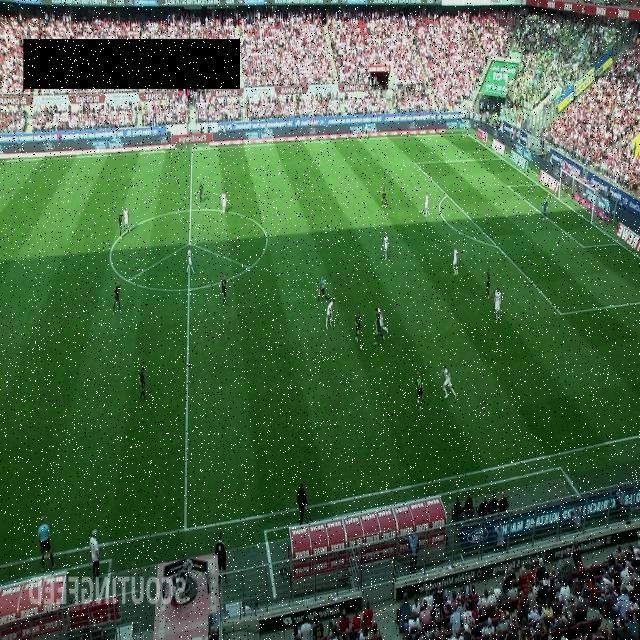Ball: (360, 344, 362, 352)
Corner: (464, 114, 472, 138)
GoalKeeper: (542, 196, 548, 221)
Referee: (38, 516, 56, 572), (317, 274, 329, 302), (364, 122, 369, 142)
TEAM 1: (437, 364, 457, 400), (374, 304, 388, 336), (325, 298, 335, 330), (494, 286, 502, 322), (187, 247, 196, 274), (452, 246, 459, 276), (383, 232, 389, 260), (424, 192, 430, 217), (221, 190, 227, 214), (123, 207, 129, 230)
TEAM 2: (373, 308, 385, 346), (414, 371, 424, 412), (112, 280, 121, 316), (138, 362, 146, 401), (220, 274, 228, 308), (354, 311, 362, 343), (380, 184, 388, 208), (486, 268, 490, 300), (198, 182, 204, 202), (118, 212, 122, 239)
